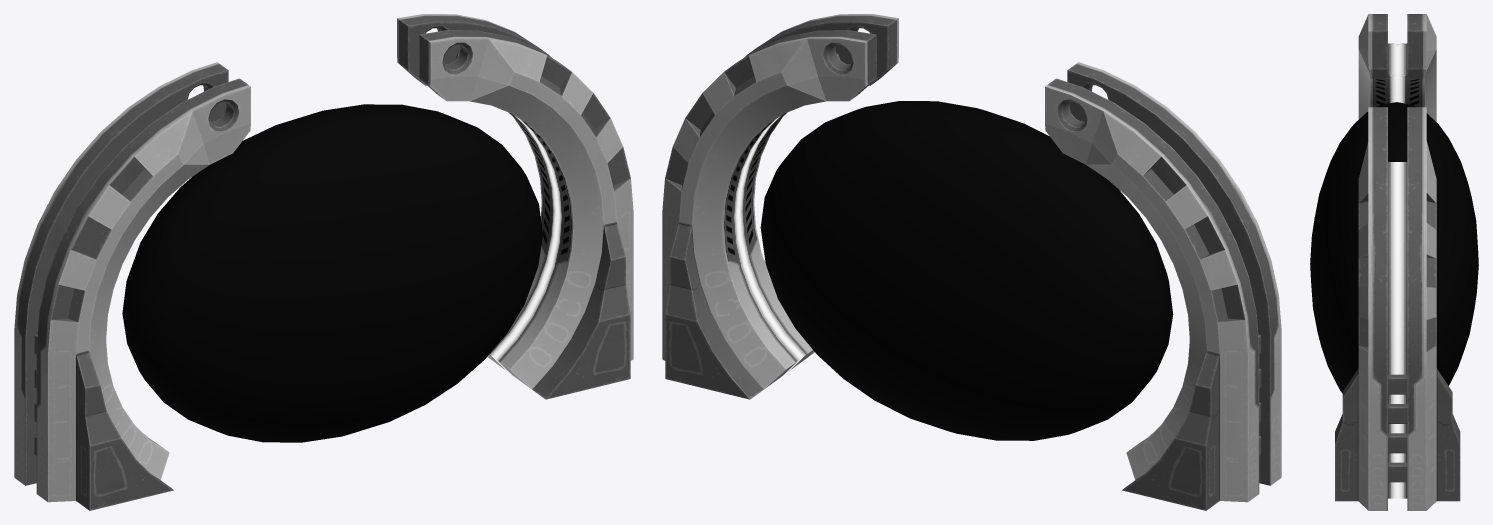
File: Pfb_AccelerateDoor.fbx
3 renders of one model, left to right at view 1: azimuth 30°, elevation 25°; view 2: azimuth 150°, elevation 25°; view 3: azimuth 270°, elevation 25°, orthographic. The views are drawn at different scales.
Parts seen in each view (by area): view 1: Teleporter_MountainHole, Soda_Accelerate; view 2: Teleporter_MountainHole, Soda_Accelerate; view 3: Soda_Accelerate, Teleporter_MountainHole.
Part boxes in pixels (left/top/right/bottom): Teleporter_MountainHole: left=122, top=104, right=542, bottom=442; Soda_Accelerate: left=14, top=14, right=633, bottom=510; Teleporter_MountainHole: left=760, top=101, right=1173, bottom=440; Soda_Accelerate: left=662, top=14, right=1281, bottom=510; Soda_Accelerate: left=1335, top=14, right=1460, bottom=510; Teleporter_MountainHole: left=1310, top=102, right=1478, bottom=393.
Bounding box in the file's own units: 6.01 × 3.74 × 1.73.
2 materials, 2 textured.
